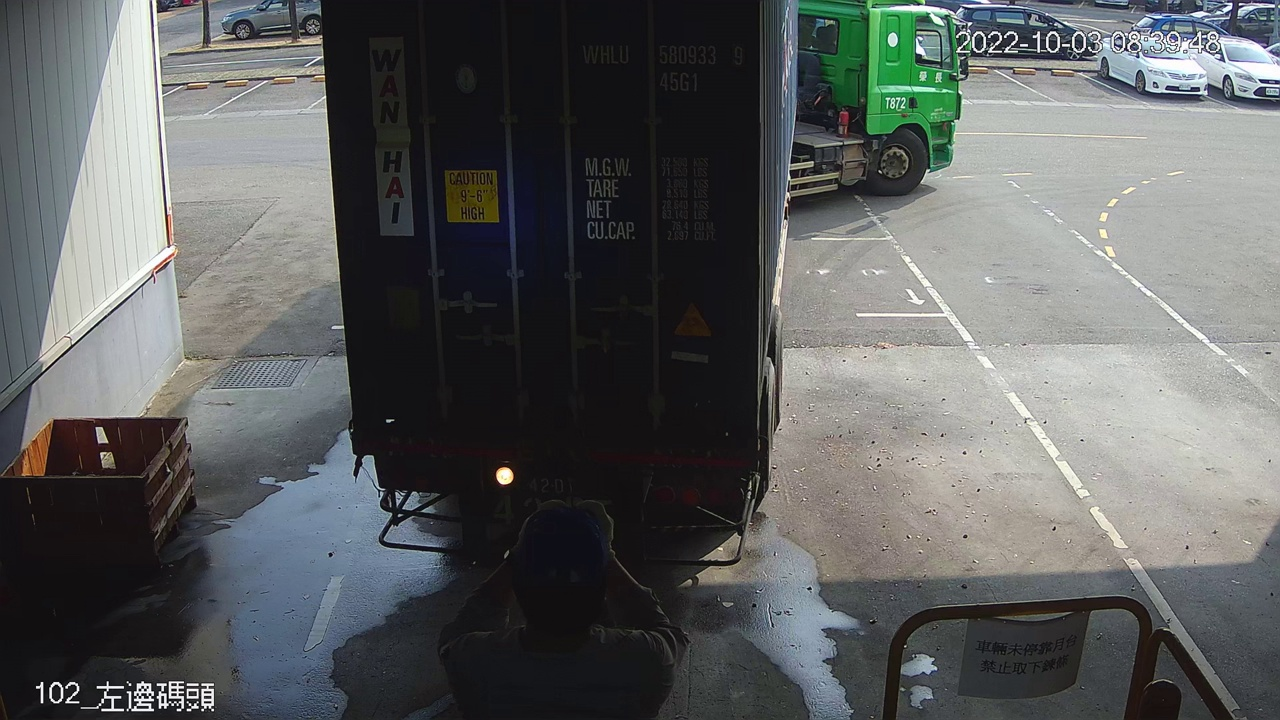container: (574, 36, 753, 100)
